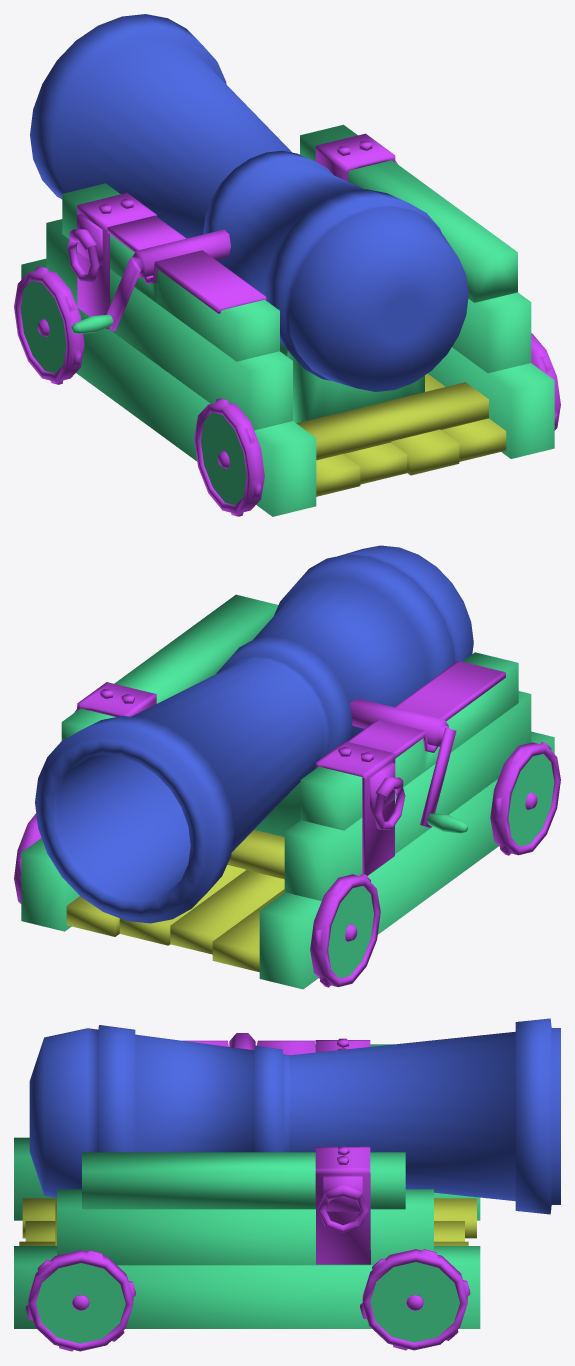
Rendered from CANON_LP.fbx.
3 renders of one model, top to bottom at view 1: azimuth 30°, elevation 25°; view 2: azimuth 150°, elevation 25°; view 3: azimuth 270°, elevation 25°, orthographic. The views are drawn at different scales.
Parts seen in each view (by area): view 1: CANON_LP; view 2: CANON_LP; view 3: CANON_LP.
Boxes of the visible parts, x1,y1,x2,y2 form: CANON_LP: [14, 14, 560, 516]; CANON_LP: [14, 545, 560, 989]; CANON_LP: [14, 1018, 560, 1351].
Size of the model in its own units: 163 by 121 by 235.
